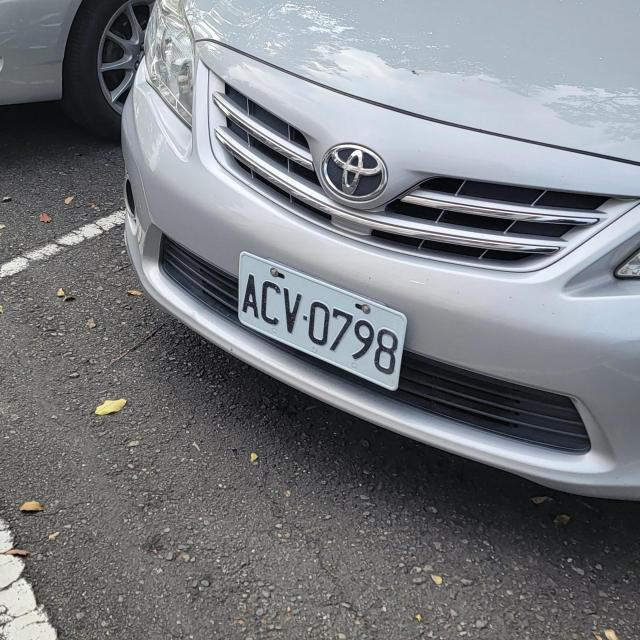W: (233, 256, 411, 390)
